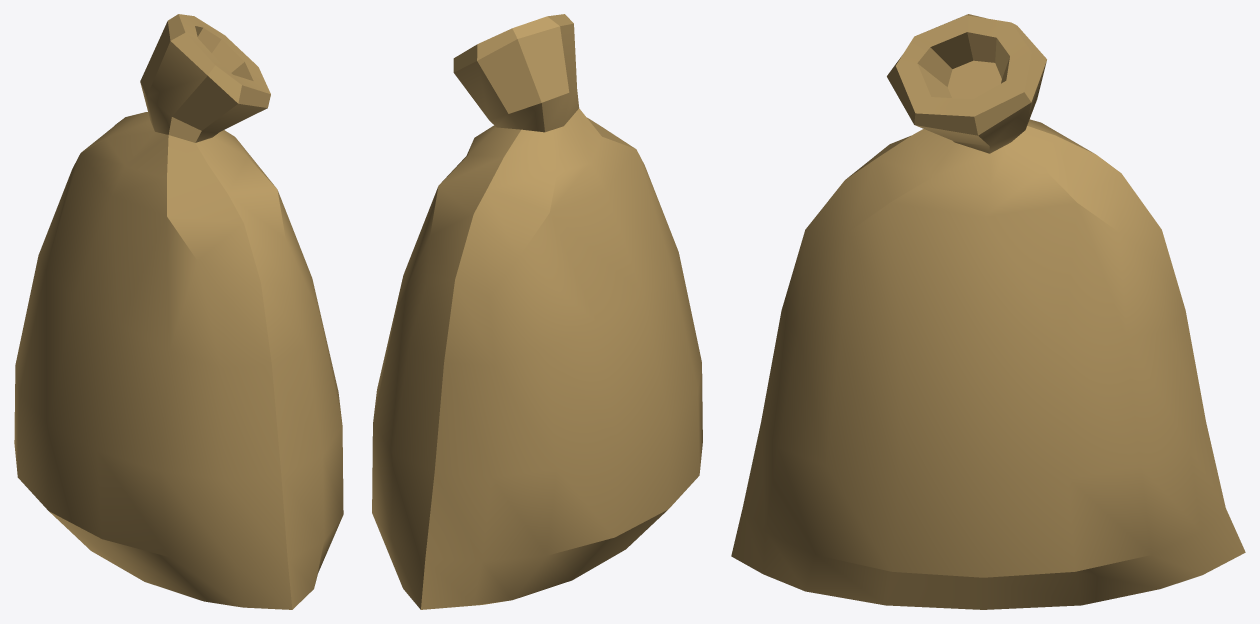
File: Bag.glb
3 views of the same model, side by side, from view 1: azimuth 30°, elevation 25°; view 2: azimuth 150°, elevation 25°; view 3: azimuth 270°, elevation 25° (orthographic). The views are drawn at different scales.
Visible parts, largest first — view 1: Bag; view 2: Bag; view 3: Bag.
Boxes of the visible parts, bbox=[...] form: Bag: bbox=[14, 14, 343, 609]; Bag: bbox=[372, 14, 702, 609]; Bag: bbox=[731, 14, 1245, 609].
Bounding box in the file's own units: 0.4125 × 0.7755 × 0.6465.
1 material, 1 textured.
